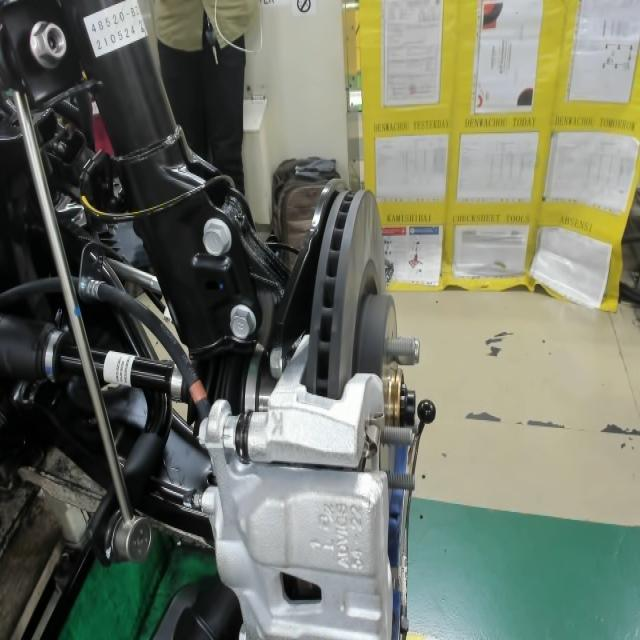Disc-HT: (351, 248, 407, 520)
Drive Shaft-PT: (100, 348, 139, 390)
